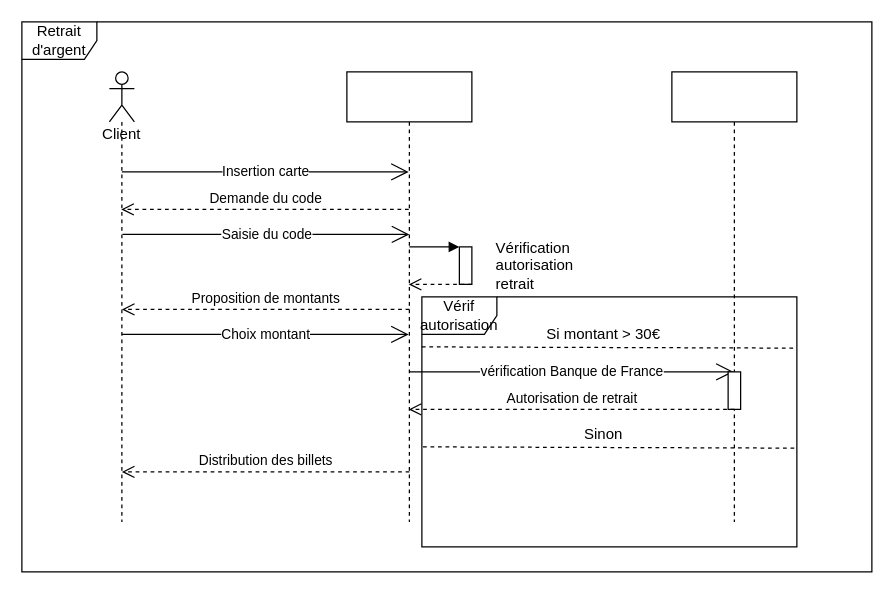
This 894x594 diagram has some shape labels left out. Here are the shapes that lost their labels. From the top down, the box of each, then its label:
(346, 71, 472, 522): :Banque
(671, 71, 797, 522): Réseau bancaire
